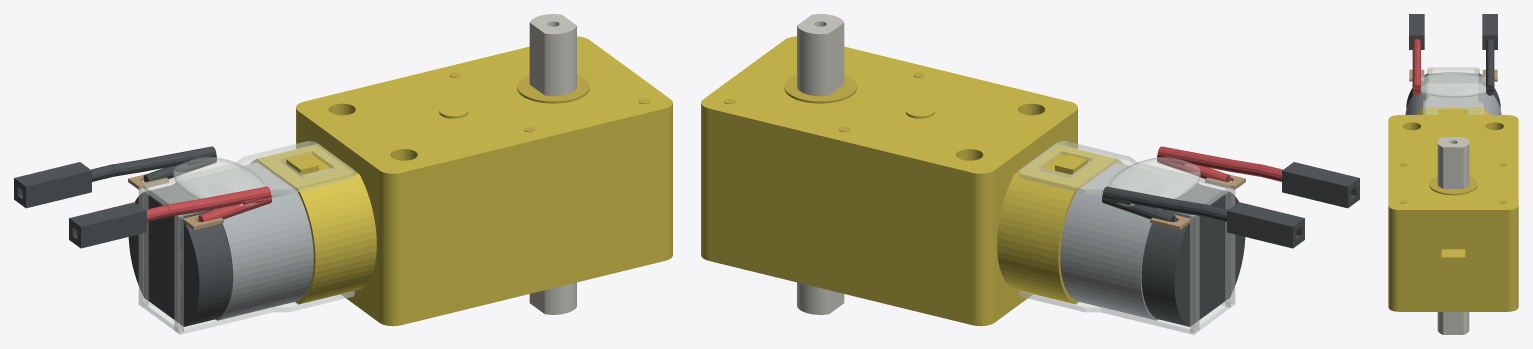
Rendered from motor.glb.
The picture shows the model from 3 angles, left to right: view 1: azimuth 30°, elevation 25°; view 2: azimuth 150°, elevation 25°; view 3: azimuth 270°, elevation 25°; orthographic projection. The views are drawn at different scales.
Visible parts, largest first — view 1: gearbox, motor_can, black_motor_end, yellow_motor_neck, retaining_clip_band_16.55, output_shaft_19, hot_glue_center, female_connector_wire_red, female_connector_wire_black, retaining_clip_band_1.85, clip_rear_edge_-4, output_shaft_-8 (+4 smaller); view 2: gearbox, motor_can, black_motor_end, yellow_motor_neck, retaining_clip_band_16.55, output_shaft_19, hot_glue_center, female_connector_wire_black, female_connector_wire_red, retaining_clip_band_1.85, clip_rear_edge_4, output_shaft_-8 (+4 smaller); view 3: gearbox, retaining_clip_band_16.55, motor_can, output_shaft_19, hot_glue_center, front_tab, output_shaft_-8, black_motor_end, shaft_hub_19.12, yellow_motor_neck, female_connector_wire_red, female_connector_wire_black (+7 smaller).
Part boxes in pixels (box(x1,y1,x2,y2)): gearbox: box(296, 36, 672, 326); motor_can: box(173, 163, 313, 320); black_motor_end: box(128, 184, 232, 326); yellow_motor_neck: box(250, 144, 376, 304); retaining_clip_band_16.55: box(143, 141, 355, 216); output_shaft_19: box(529, 14, 576, 96); hot_glue_center: box(173, 157, 265, 206); female_connector_wire_red: box(69, 203, 142, 248); female_connector_wire_black: box(14, 163, 87, 208); retaining_clip_band_1.85: box(143, 291, 355, 334); clip_rear_edge_-4: box(174, 214, 183, 333); output_shaft_-8: box(529, 282, 576, 314); gearbox: box(701, 36, 1077, 326); motor_can: box(1060, 163, 1200, 320); black_motor_end: box(1141, 184, 1245, 326); yellow_motor_neck: box(997, 144, 1123, 304); retaining_clip_band_16.55: box(1018, 141, 1230, 216); output_shaft_19: box(797, 14, 844, 96); hot_glue_center: box(1108, 157, 1200, 206); female_connector_wire_black: box(1231, 203, 1304, 248); female_connector_wire_red: box(1286, 163, 1359, 208); retaining_clip_band_1.85: box(1018, 291, 1230, 334); clip_rear_edge_4: box(1190, 214, 1199, 333); output_shaft_-8: box(797, 282, 844, 314); gearbox: box(1388, 115, 1518, 311); retaining_clip_band_16.55: box(1423, 67, 1483, 114); motor_can: box(1405, 83, 1501, 114); output_shaft_19: box(1437, 137, 1469, 188); hot_glue_center: box(1412, 72, 1494, 97); front_tab: box(1441, 249, 1465, 280); output_shaft_-8: box(1437, 312, 1469, 334); black_motor_end: box(1406, 73, 1500, 108); shaft_hub_19.12: box(1429, 176, 1477, 195); yellow_motor_neck: box(1416, 107, 1490, 114); female_connector_wire_red: box(1409, 14, 1424, 33); female_connector_wire_black: box(1482, 14, 1497, 33).
Bounding box in the file's own units: 0.0791 × 0.035 × 0.022.
